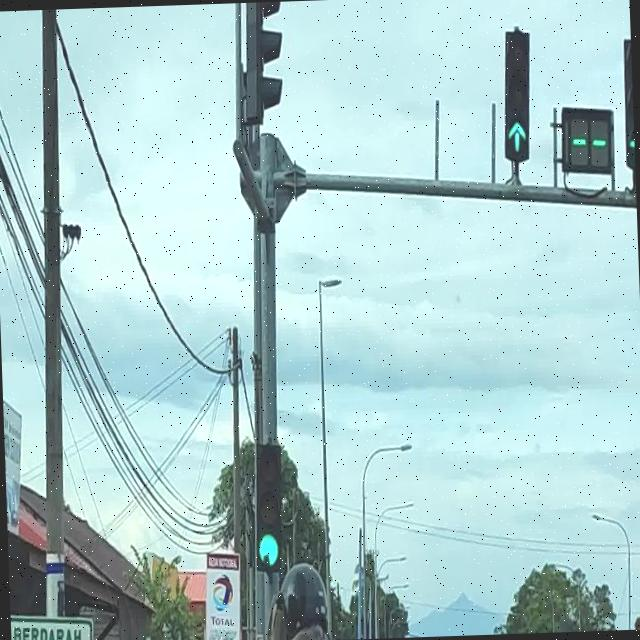green_light: (500, 30, 535, 162), (252, 444, 284, 570)
